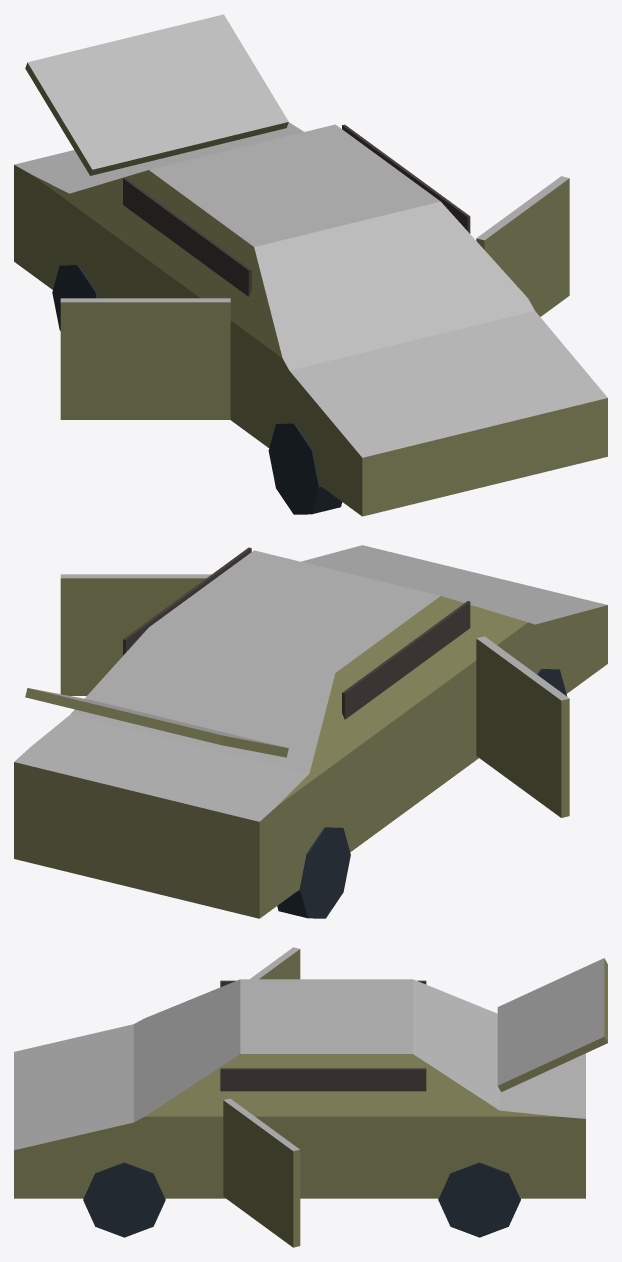
Rendered from SM_coche_2000_v5_LOD1.fbx.
3 renders of one model, top to bottom at view 1: azimuth 30°, elevation 25°; view 2: azimuth 150°, elevation 25°; view 3: azimuth 270°, elevation 25°, orthographic. The views are drawn at different scales.
Visible parts, largest first — view 1: SM_bloques.coche_2000_v5_LOD1; view 2: SM_bloques.coche_2000_v5_LOD1; view 3: SM_bloques.coche_2000_v5_LOD1.
Part boxes in pixels (bbox=[...]): SM_bloques.coche_2000_v5_LOD1: bbox=[14, 14, 607, 516]; SM_bloques.coche_2000_v5_LOD1: bbox=[14, 545, 607, 918]; SM_bloques.coche_2000_v5_LOD1: bbox=[14, 947, 607, 1247].
Size of the model in its own units: 3.63 by 1.58 by 4.46.
